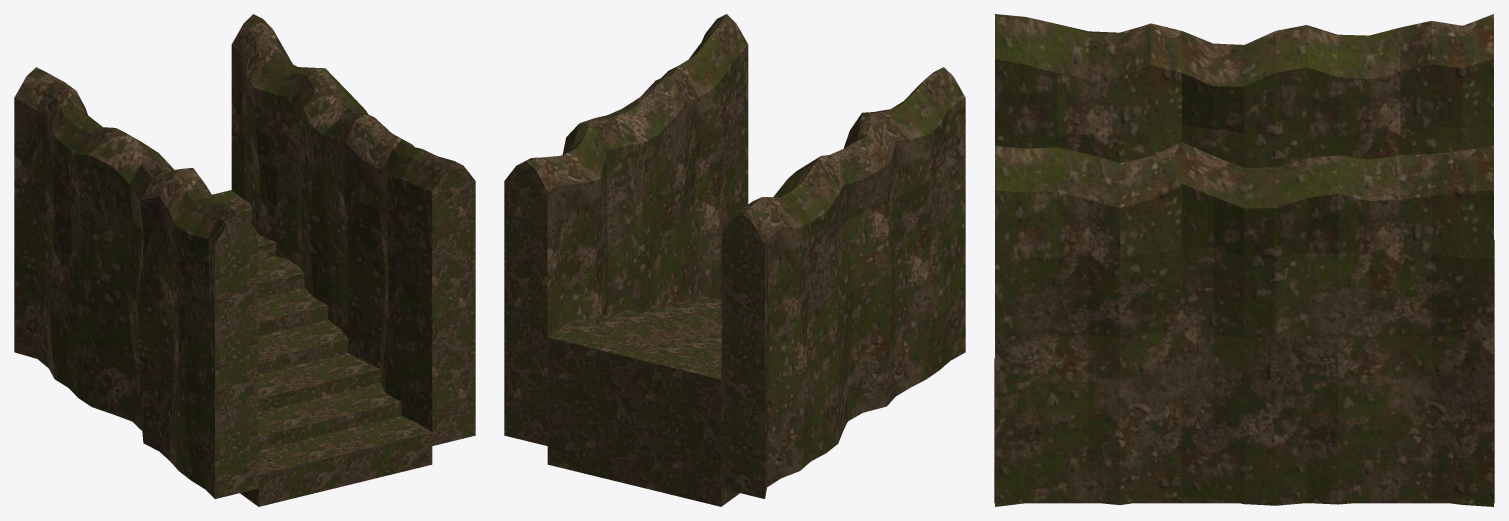
The model's file is cave_stairs_01_limestone.glb.
The picture shows the model from 3 angles, left to right: view 1: azimuth 30°, elevation 25°; view 2: azimuth 150°, elevation 25°; view 3: azimuth 270°, elevation 25°; orthographic projection. The views are drawn at different scales.
Visible parts, largest first — view 1: cave_stairs_01_limestone; view 2: cave_stairs_01_limestone; view 3: cave_stairs_01_limestone.
Part boxes in pixels (bbox=[...]): cave_stairs_01_limestone: bbox=[14, 14, 475, 506]; cave_stairs_01_limestone: bbox=[504, 14, 965, 506]; cave_stairs_01_limestone: bbox=[994, 14, 1494, 506].
Bounding box in the file's own units: 3.09 × 3.28 × 4.01.
Materials: 2 (2 with a texture image).
